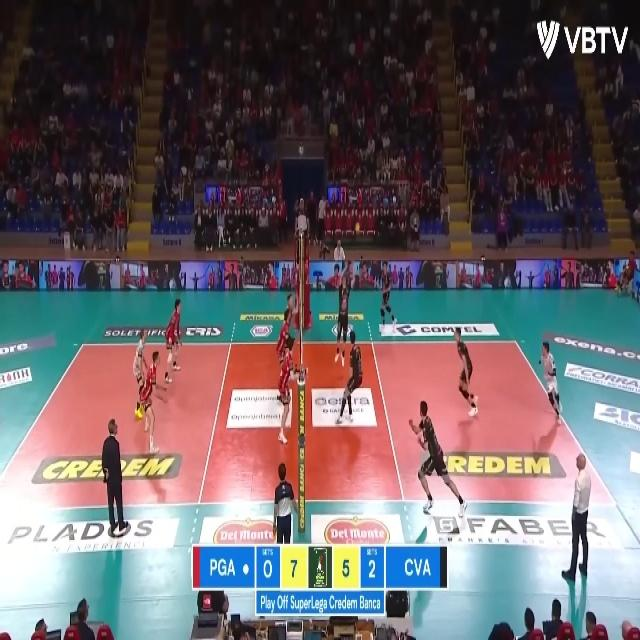volleyball court: (2, 336, 626, 512)
